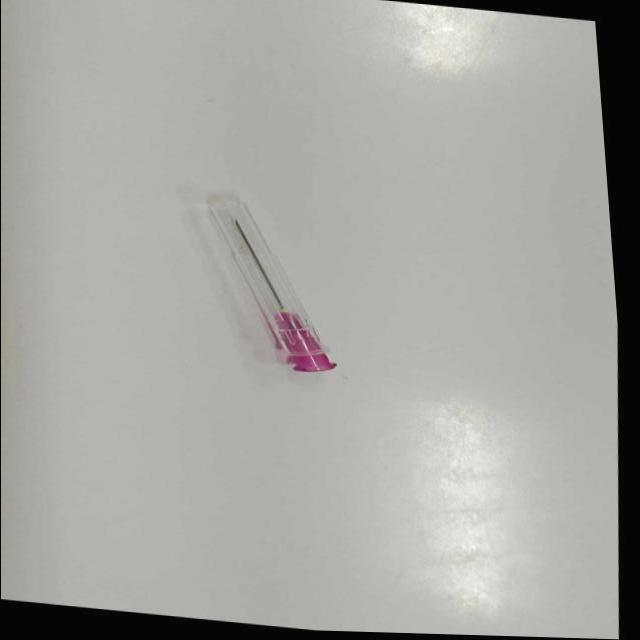General: (268, 310, 338, 376)
Pathological: (3, 3, 621, 638)
Sharps: (205, 195, 338, 375)
